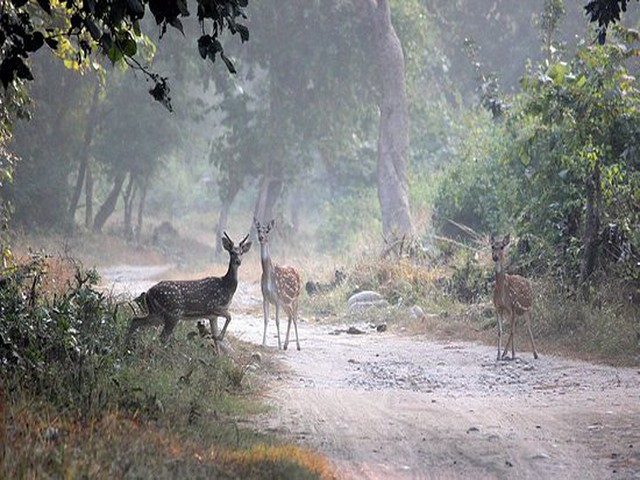deer: (120, 226, 252, 350), (477, 223, 546, 363), (250, 213, 319, 353)
